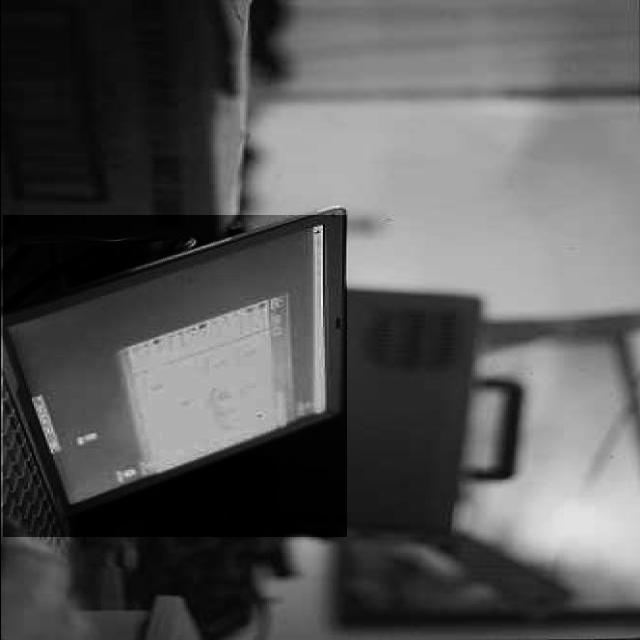-keyboard-: (3, 215, 347, 538)
